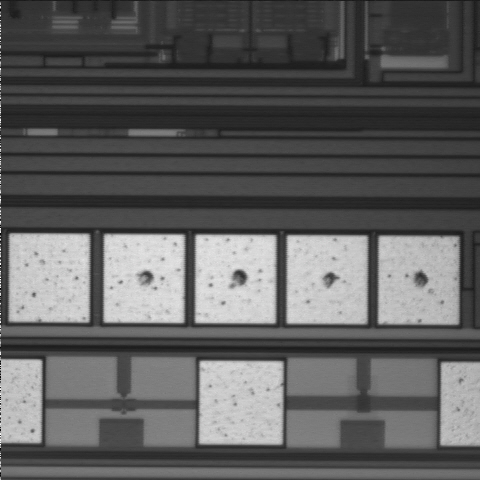pad: (9, 234, 89, 322), (104, 235, 184, 323), (196, 235, 276, 323), (287, 236, 367, 323), (200, 361, 283, 444), (379, 237, 458, 324)
